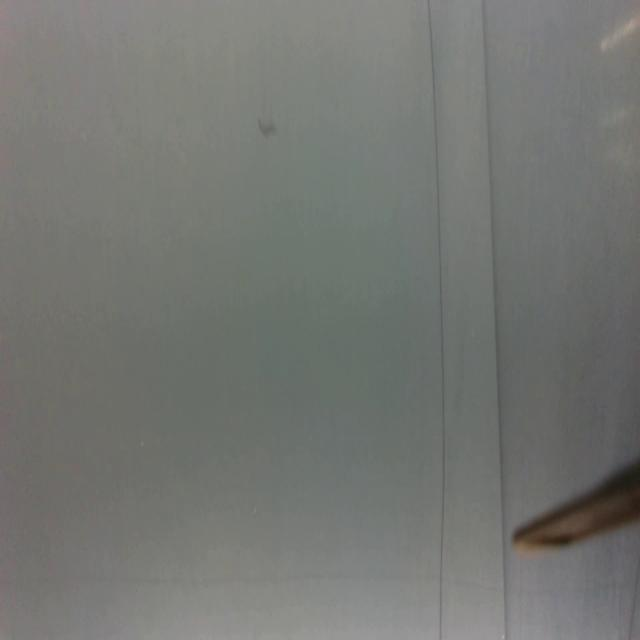color bleeding: (0, 567, 505, 599)
crease: (480, 0, 509, 638), (427, 1, 447, 640)
hole: (257, 112, 279, 142)
